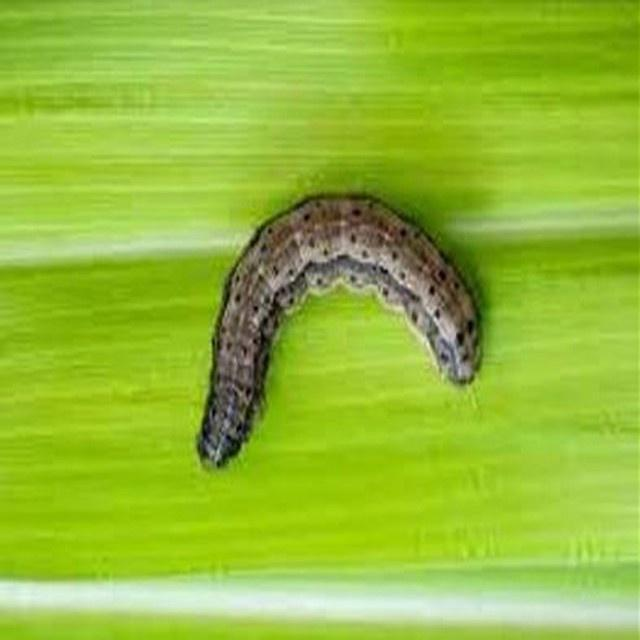gusano_cogollero: (195, 188, 483, 468)
